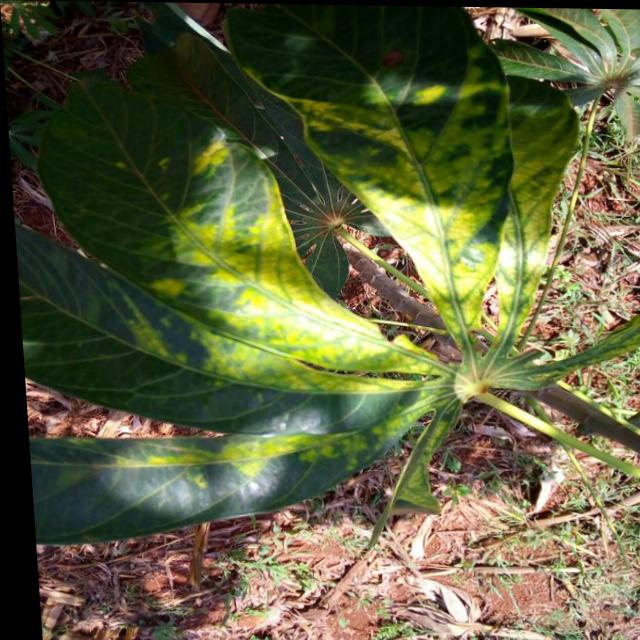Mosaico: (44, 31, 622, 505)
